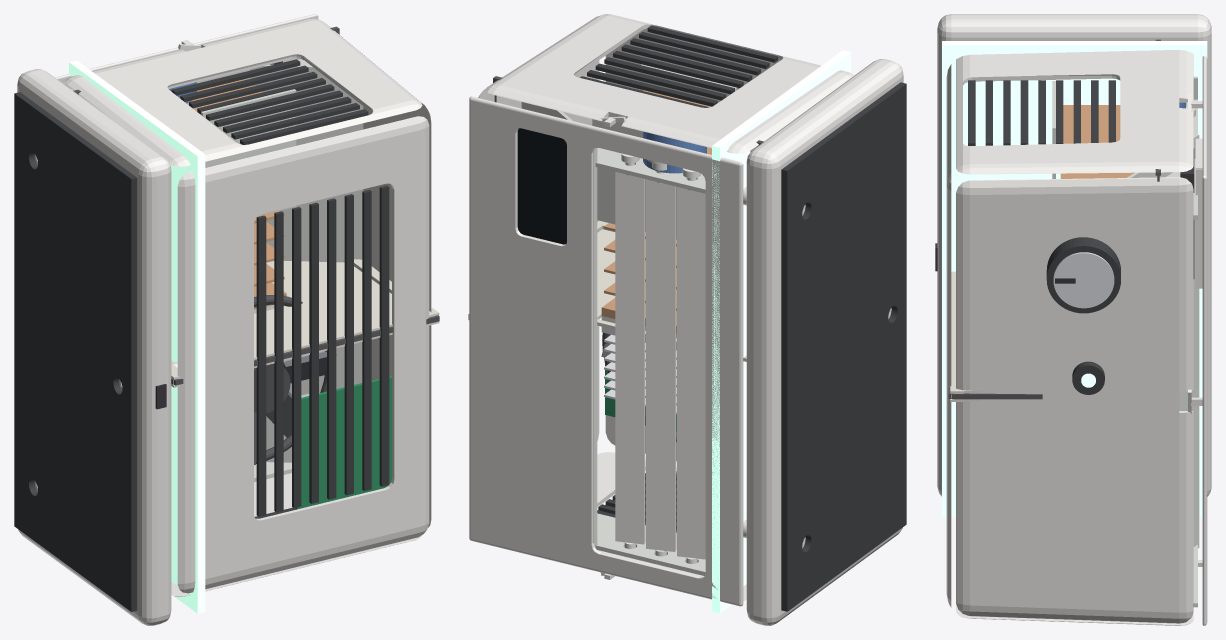
The model's file is assembly_a_eng.glb.
3 renders of one model, left to right at view 1: azimuth 30°, elevation 25°; view 2: azimuth 150°, elevation 25°; view 3: azimuth 270°, elevation 25°, orthographic. The views are drawn at different scales.
Visible parts, largest first — view 1: Body, SkidPad, IntakeGrille, Base, Band, HotVent_R, M5_ColdDuct, M3_PCB, M5_Separator, M5_HotDuct, M5_HotSink, M4_FanBlades (+3 smaller); view 2: FrontPanel, SkidPad, Base, Body, Louver_2, Louver_1, Louver_0, HotVent_R, Band, M5_ColdDuct, DisplayGlass, M5_HotDuct (+4 smaller); view 3: Body, Band, Base, HotVent_R, Knob, FrontPanel, M5_ColdDuct, M5_HotSink, M7_Clip, CoolKey, M5_Separator, M5_EVA.
Boxes of the visible parts, x1,y1,x2,y2 form: Body: [65, 18, 431, 596]; SkidPad: [14, 92, 137, 611]; IntakeGrille: [256, 185, 389, 516]; Base: [17, 69, 171, 625]; Band: [69, 60, 205, 613]; HotVent_R: [171, 59, 368, 144]; M5_ColdDuct: [250, 59, 363, 482]; M3_PCB: [295, 375, 391, 509]; M5_Separator: [79, 95, 439, 387]; M5_HotDuct: [197, 69, 296, 215]; M5_HotSink: [187, 79, 286, 309]; M4_FanBlades: [254, 351, 336, 465]; FrontPanel: [469, 96, 743, 606]; SkidPad: [781, 82, 906, 611]; Base: [746, 59, 903, 625]; Body: [478, 14, 853, 600]; Louver_2: [615, 153, 645, 548]; Louver_1: [646, 163, 676, 556]; Louver_0: [677, 168, 705, 563]; HotVent_R: [580, 25, 778, 107]; Band: [712, 50, 850, 613]; M5_ColdDuct: [521, 102, 705, 575]; DisplayGlass: [517, 128, 566, 244]; M5_HotDuct: [592, 64, 736, 239]; Body: [946, 50, 1193, 625]; Band: [942, 41, 1207, 516]; Base: [937, 14, 1211, 496]; HotVent_R: [968, 80, 1115, 145]; Knob: [1046, 237, 1120, 313]; FrontPanel: [1202, 56, 1207, 625]; M5_ColdDuct: [1127, 76, 1199, 607]; M5_HotSink: [1060, 105, 1134, 178]; M7_Clip: [1195, 138, 1202, 288]; CoolKey: [1072, 361, 1104, 394]; M5_Separator: [950, 271, 980, 401]; M5_EVA: [948, 39, 1160, 399].
Bounding box in the file's own units: 0.1683 × 0.228 × 0.119.
